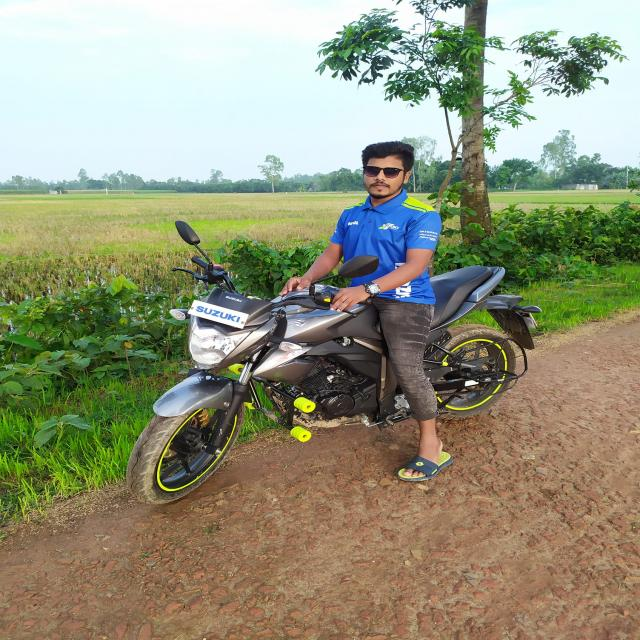Not Wearing Helmet: (304, 136, 485, 264)
